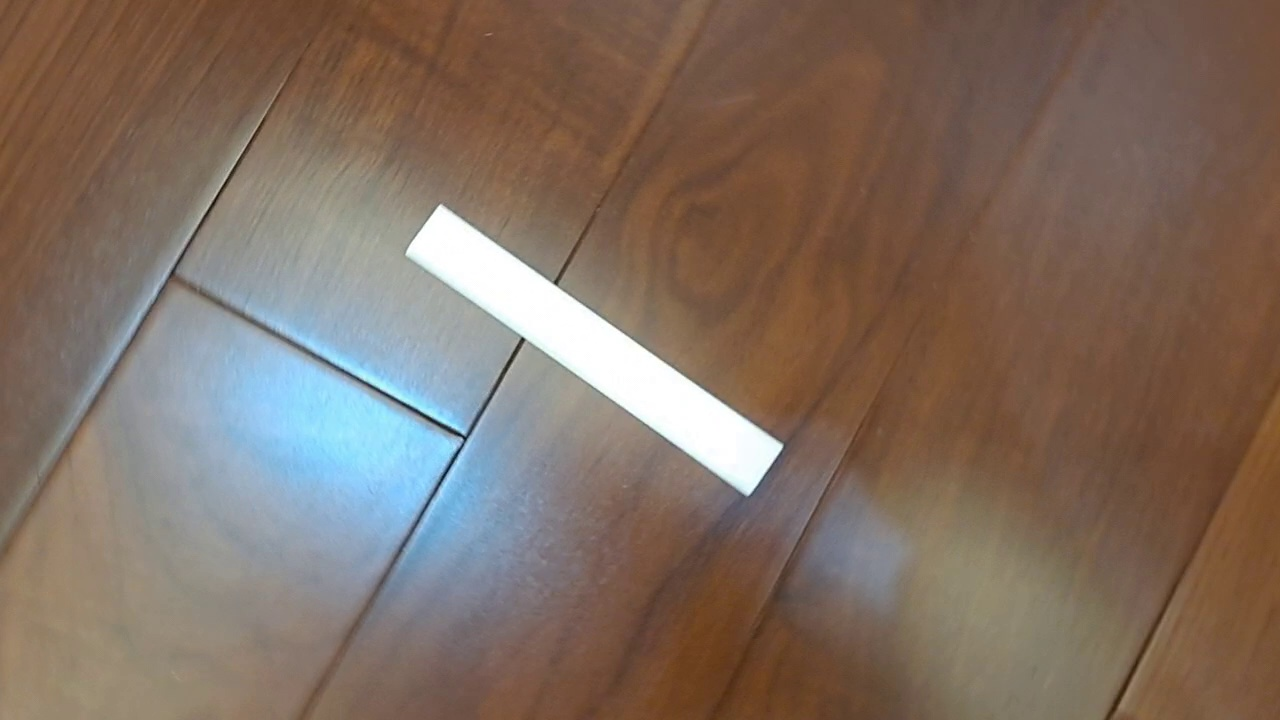ruler: (403, 201, 786, 498)
